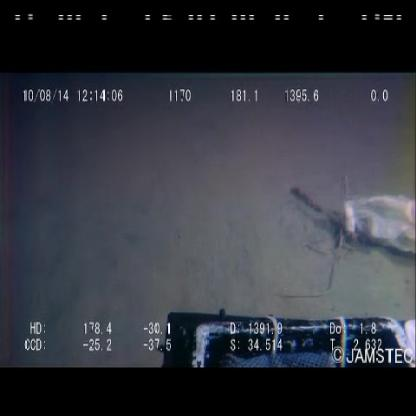Rác: (339, 191, 416, 259)
